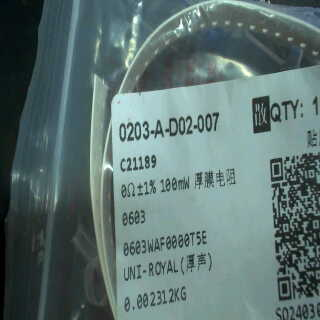0R: (116, 174, 190, 228)
